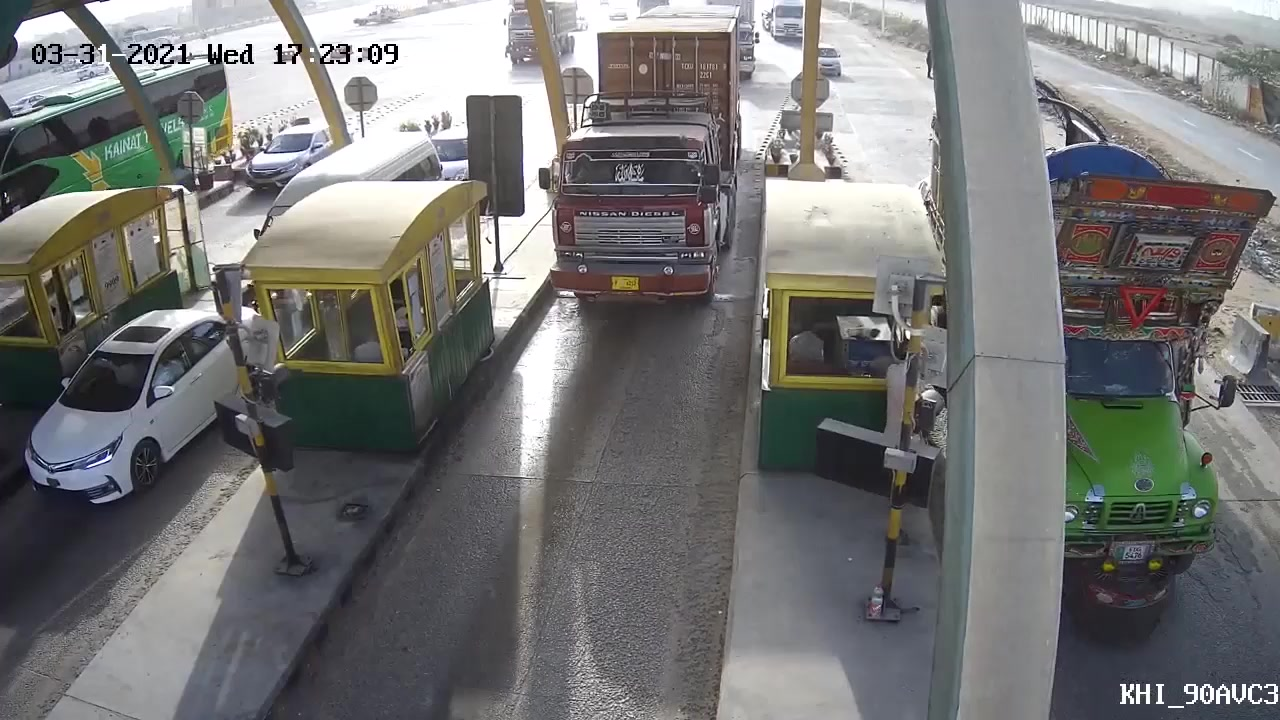F6: (524, 12, 747, 348)
